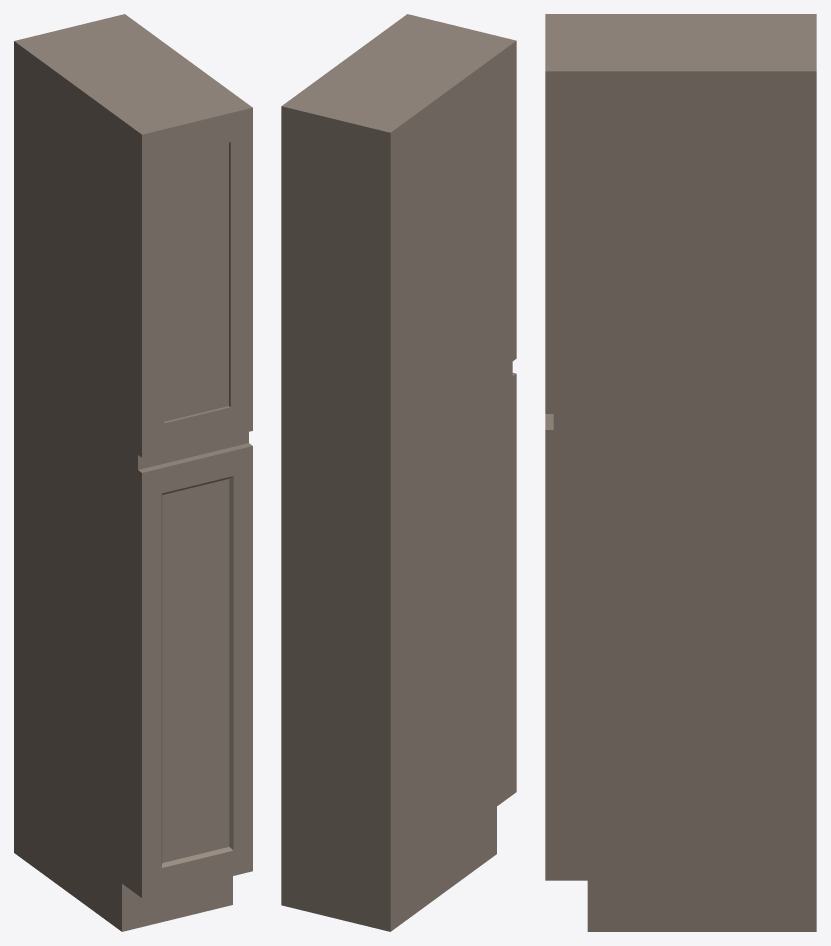
File: Utility-Cabinet-24-Deep_std_001_W12in_1D.glb
3 views of the same model, side by side, from view 1: azimuth 30°, elevation 25°; view 2: azimuth 150°, elevation 25°; view 3: azimuth 270°, elevation 25° (orthographic). The views are drawn at different scales.
Visible parts, largest first — view 1: Utility-Cabinet-24-Deep.std.001_W12in_1D; view 2: Utility-Cabinet-24-Deep.std.001_W12in_1D; view 3: Utility-Cabinet-24-Deep.std.001_W12in_1D.
Boxes of the visible parts, box(x1,y1,x2,y2) form: Utility-Cabinet-24-Deep.std.001_W12in_1D: box(14, 14, 252, 931); Utility-Cabinet-24-Deep.std.001_W12in_1D: box(281, 14, 516, 931); Utility-Cabinet-24-Deep.std.001_W12in_1D: box(545, 14, 816, 931).
Size of the model in its own units: 0.3048 by 2.13 by 0.6096.
